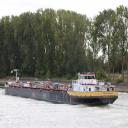tugboat: (5, 69, 120, 109)
